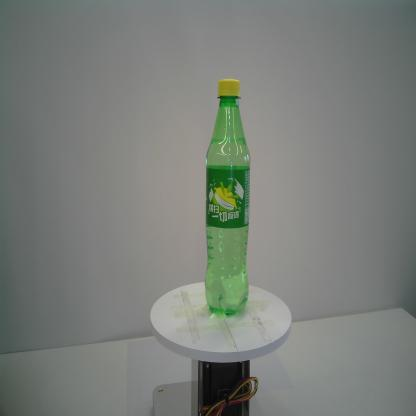Drink: (202, 77, 252, 318)
